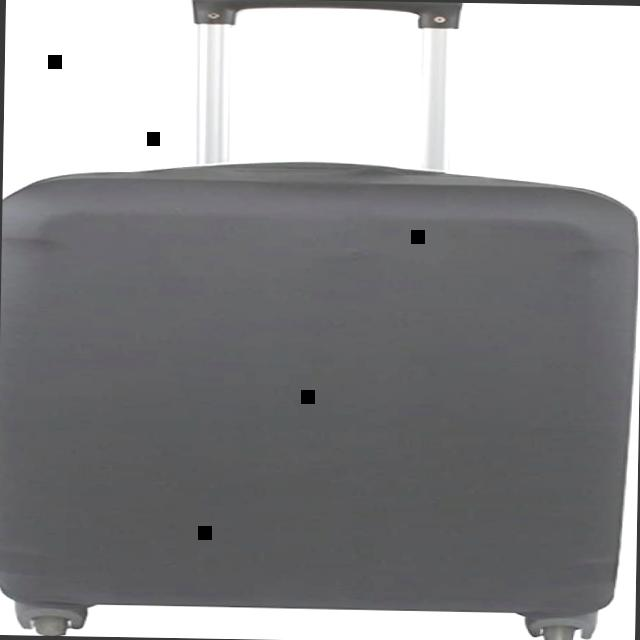luggage: (0, 138, 640, 636)
